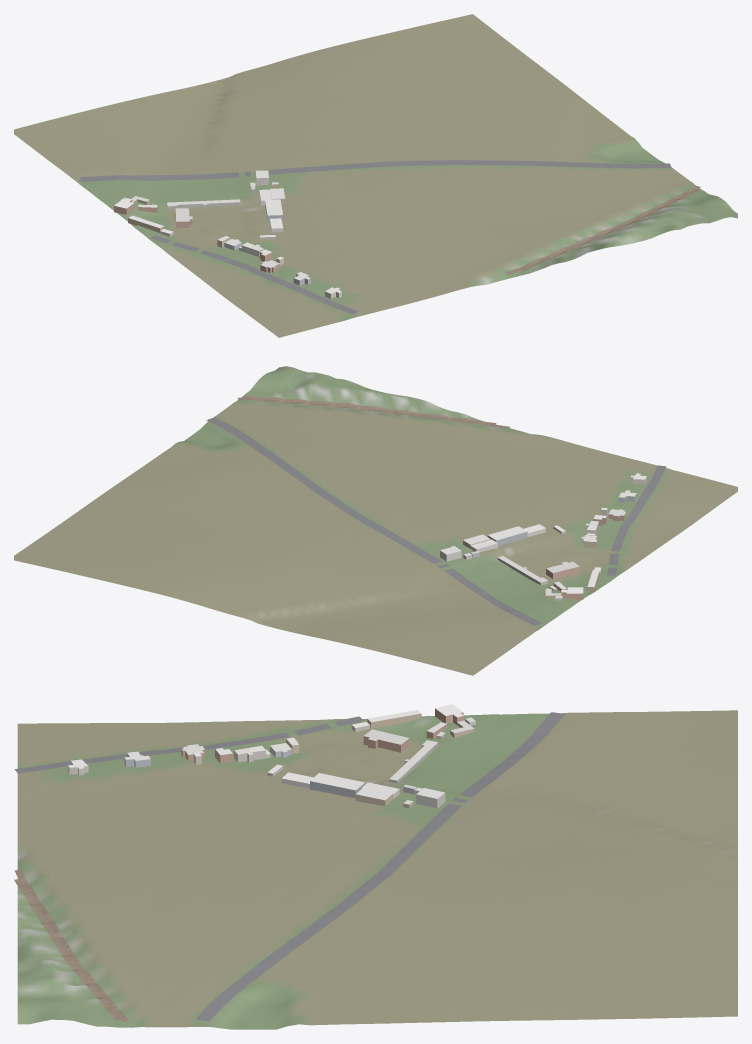
3 renders of one model, top to bottom at view 1: azimuth 30°, elevation 25°; view 2: azimuth 150°, elevation 25°; view 3: azimuth 270°, elevation 25°, orthographic. The views are drawn at different scales.
Parts seen in each view (by area): view 1: prim0, prim2, prim1, prim3; view 2: prim0, prim1, prim2, prim3; view 3: prim0, prim1, prim2, prim3.
Part boxes in pixels (x1,y1,x2,y2): prim0: (14,14,737,337); prim2: (79,160,671,314); prim1: (114,170,341,298); prim3: (506,186,701,274); prim0: (14,366,737,675); prim1: (440,473,646,600); prim2: (206,417,666,625); prim3: (237,396,509,428); prim0: (17,710,737,1029); prim1: (68,704,475,808); prim2: (14,712,564,1021); prim3: (14,869,129,1021).
Size of the model in its own units: 520 by 21.09 by 515.
